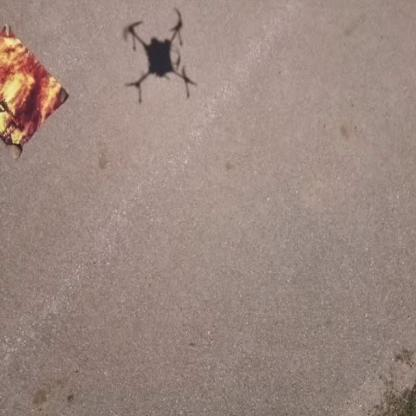fire-poster: (0, 22, 70, 160)
